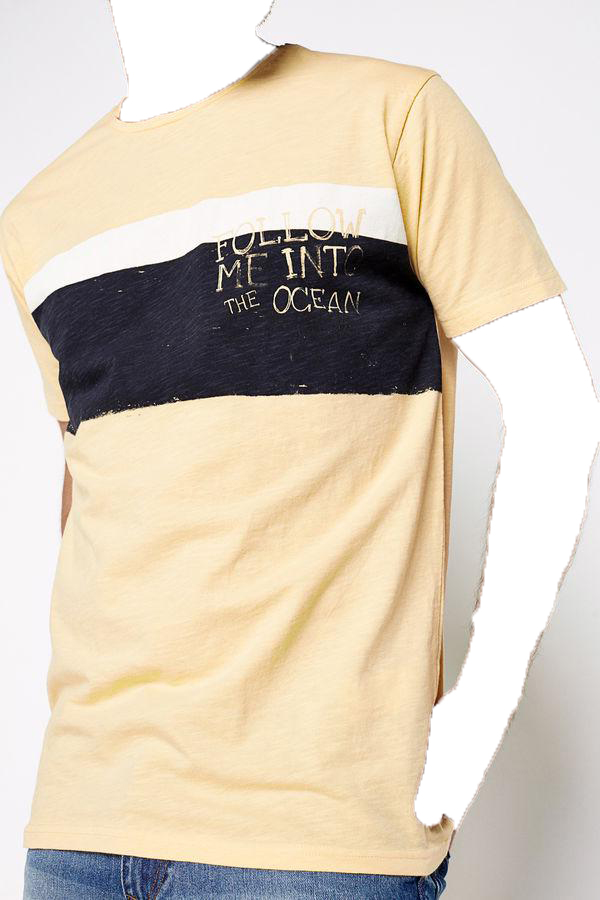teeshirt: (7, 43, 567, 896)
